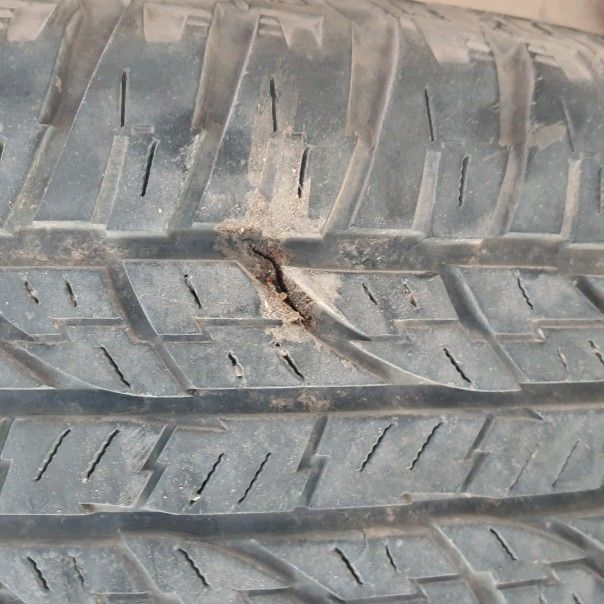tr: (217, 228, 321, 332)
